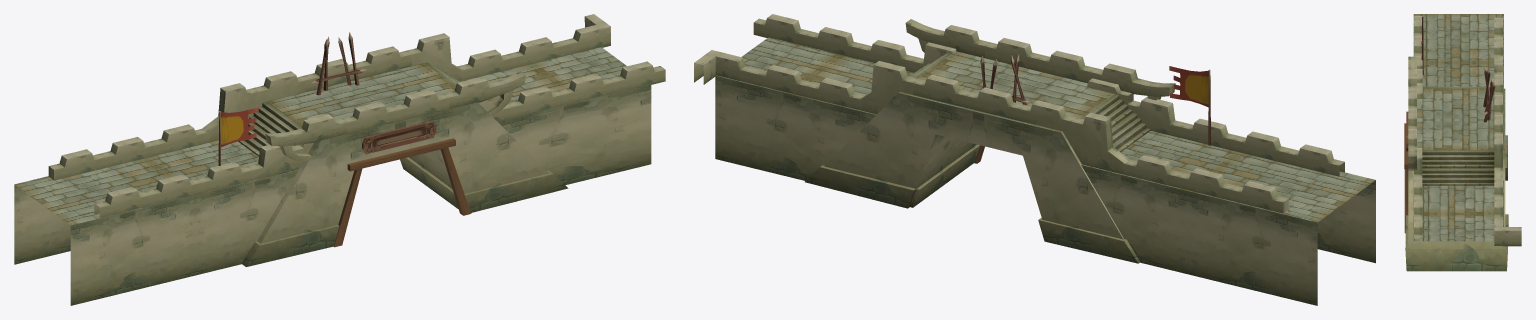
File: chengmen1.FBX
3 renders of one model, left to right at view 1: azimuth 30°, elevation 25°; view 2: azimuth 150°, elevation 25°; view 3: azimuth 270°, elevation 25°, orthographic. The views are drawn at different scales.
Visible parts, largest first — view 1: Object001; view 2: Object001; view 3: Object001.
Part boxes in pixels (bbox=[...]): Object001: bbox=[14, 14, 665, 305]; Object001: bbox=[694, 14, 1375, 305]; Object001: bbox=[1404, 14, 1521, 271].
Size of the model in its own units: 1198 by 311 by 255.
